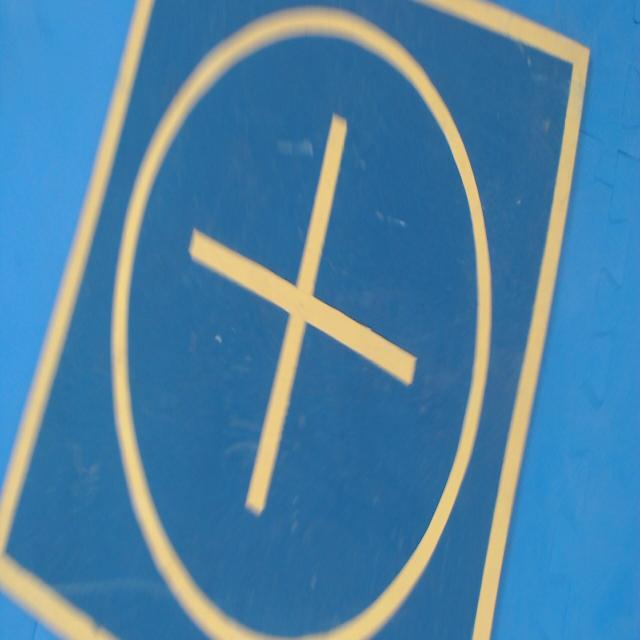base_pouso: (0, 0, 592, 639)
